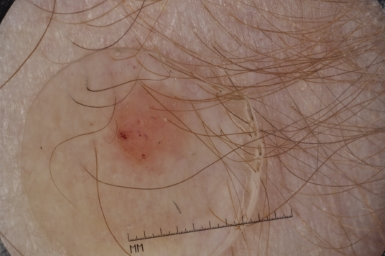seborrheic keratosis: (103, 80, 192, 174)
